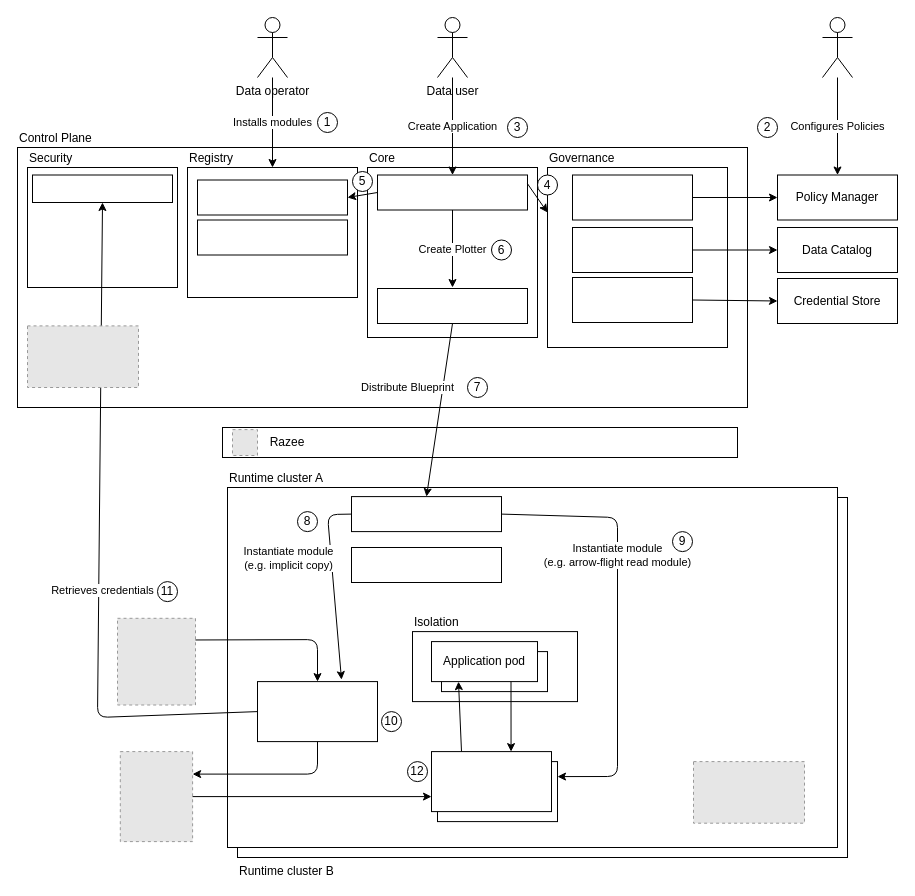
This 915x896 diagram has some shape labels left out. Grey dashed boxes stand in for pictures. The shapes that lost their labels are listed below. From the top down, each one's centre as x and y in pixels, then its label:
the point at 837,47: Data steward
the point at 102,188: Secret provider
the point at 272,197: Data Access Modules
the point at 452,192: ApplicationController
the point at 632,197: Policy Manager connector
the point at 272,237: Storage resources (COS)
the point at 632,249: Data Catalog connector
the point at 452,306: PlotterController
the point at 632,299: Data Credential connector
the point at 426,514: BlueprintController
the point at 426,564: MotionControllers
the point at 317,711: Implicit Copy Job
the point at 491,781: Data Access Modules for read/write
